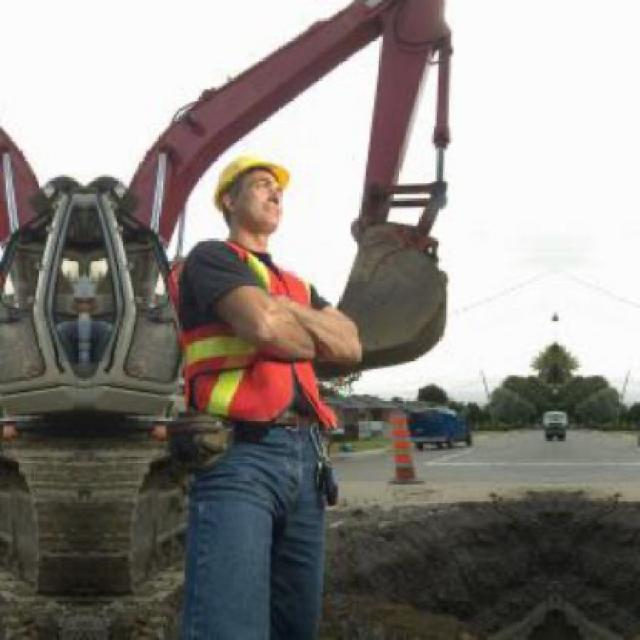helmet: (200, 125, 308, 263)
